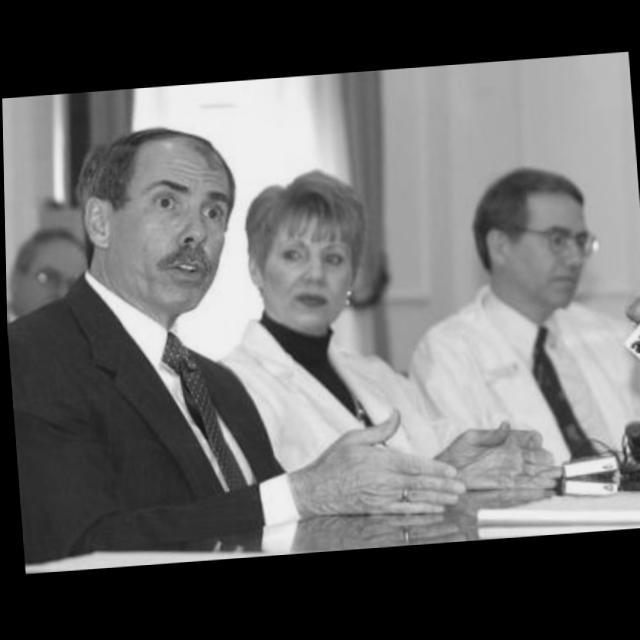face: (75, 138, 245, 330), (462, 195, 592, 341), (236, 202, 363, 330), (5, 231, 87, 334)
